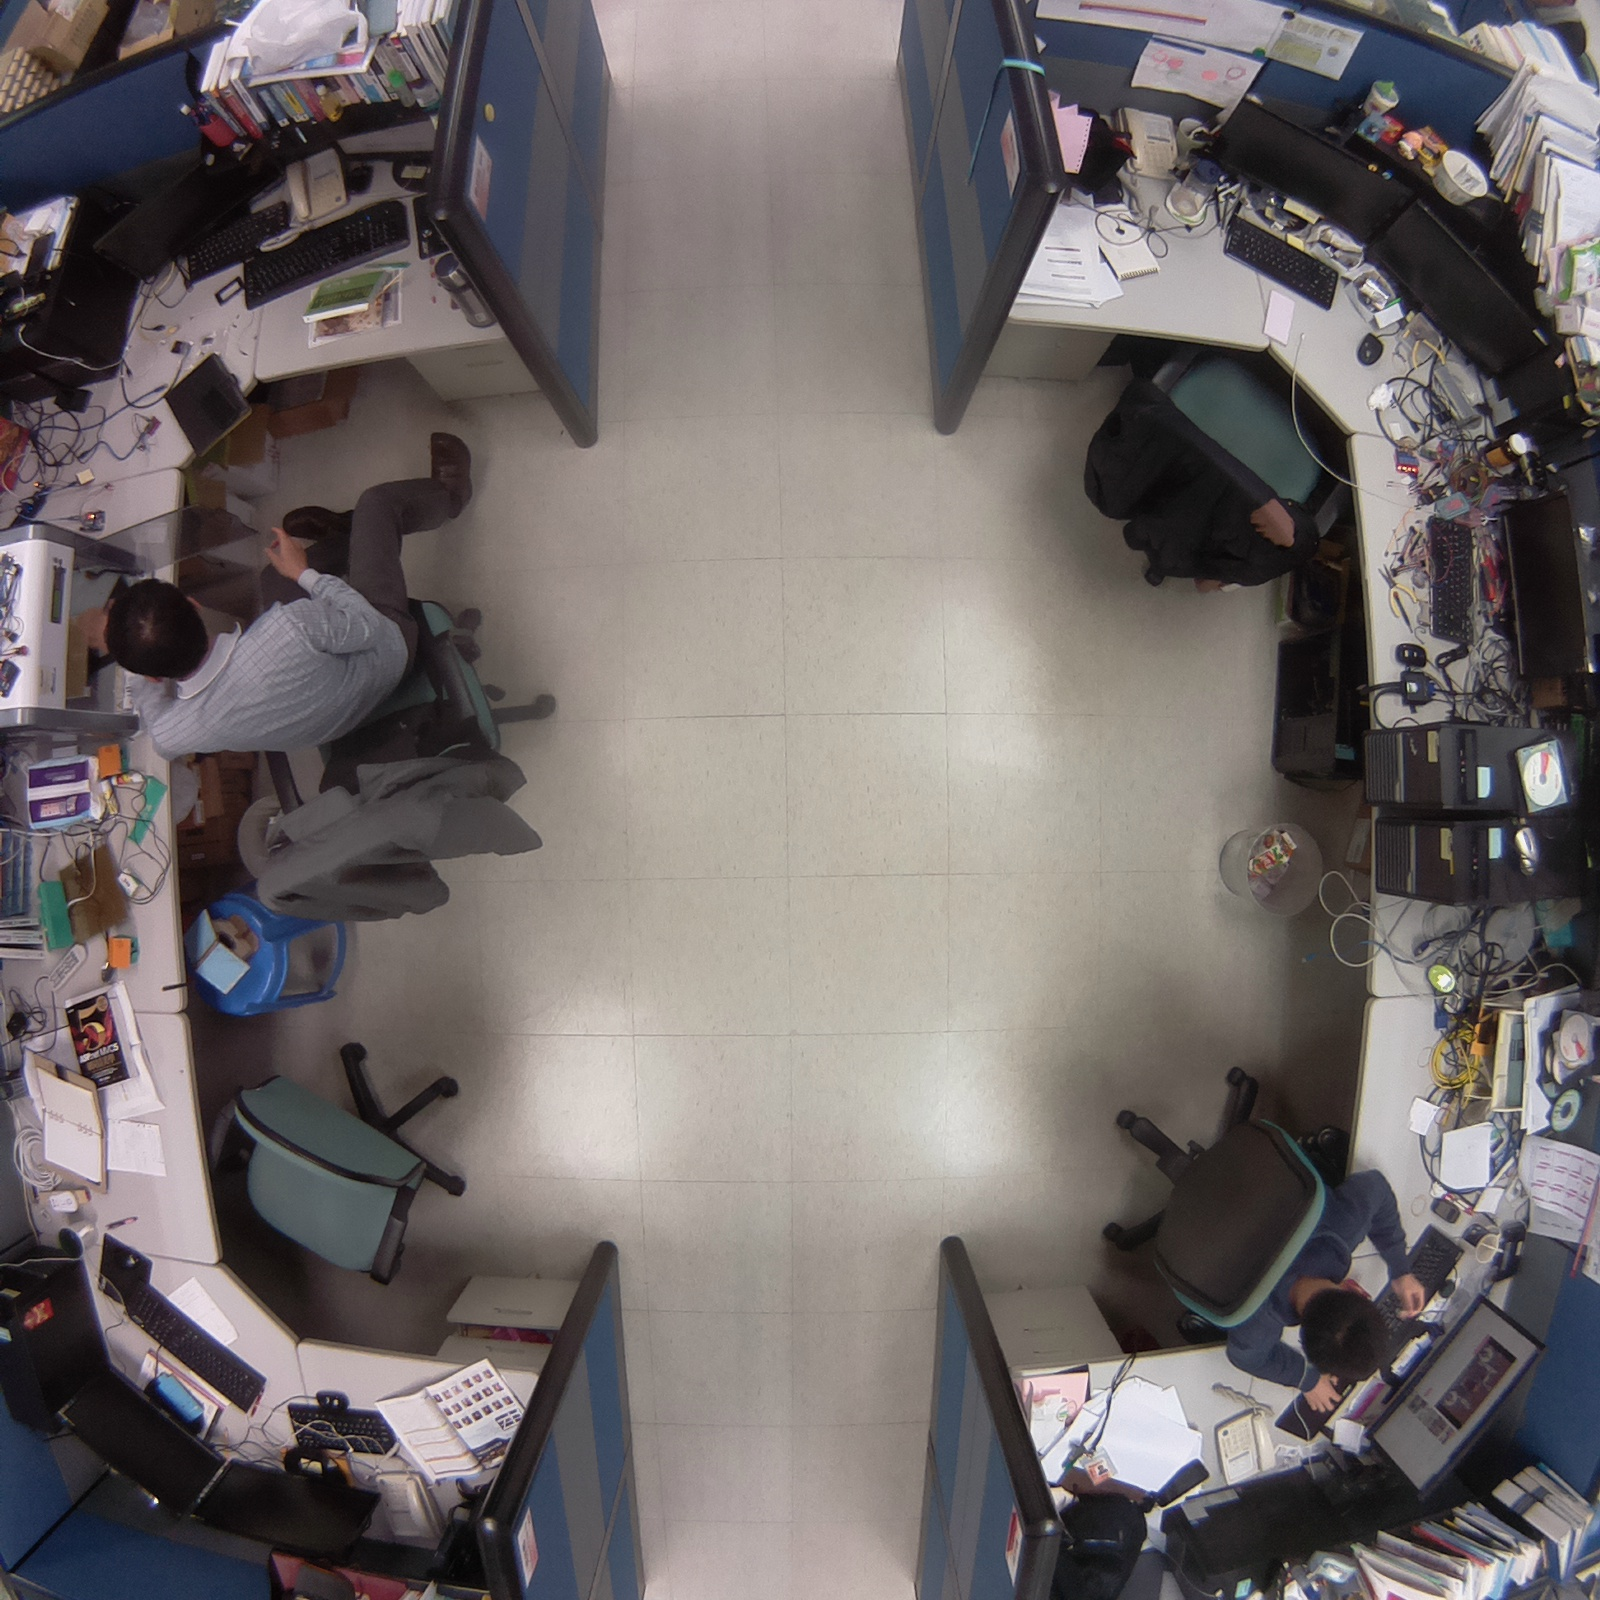chair: (206, 1011, 506, 1291), (1068, 327, 1347, 614)
head: (97, 565, 219, 685), (1291, 1272, 1397, 1385)
sitting: (96, 422, 596, 927), (1068, 1060, 1432, 1417)
